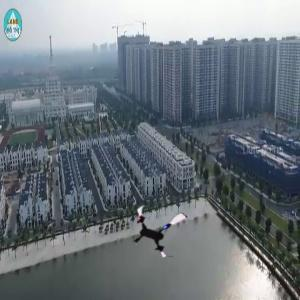drone: (128, 199, 191, 262)
